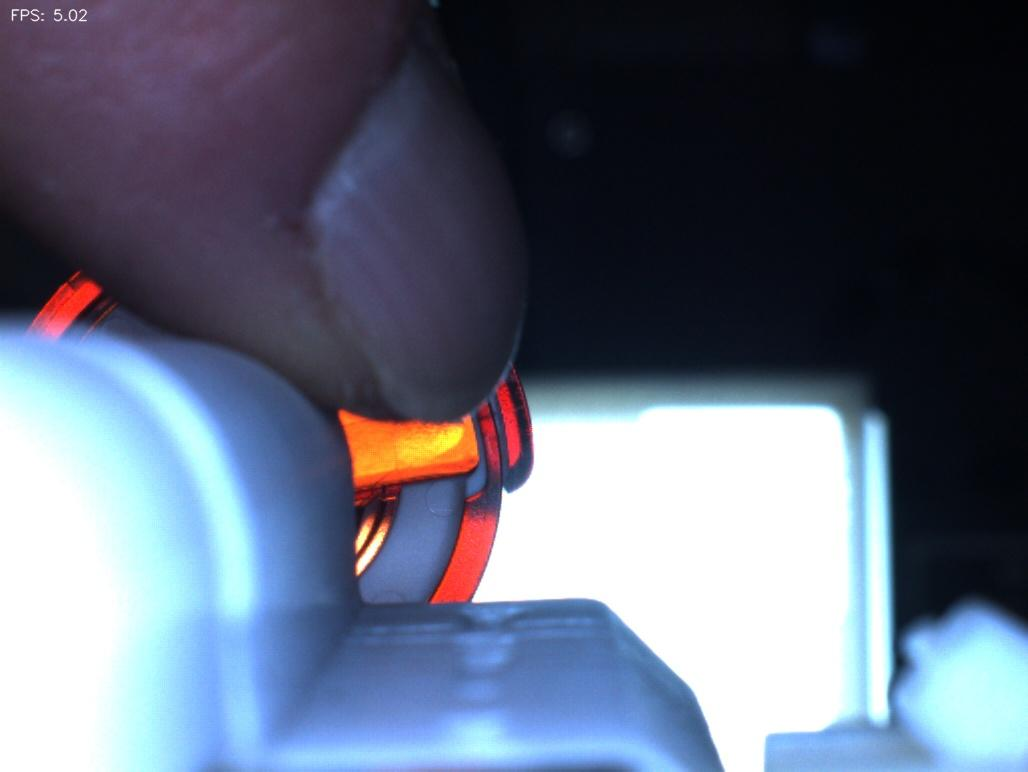Retassure: (374, 402, 477, 473)
